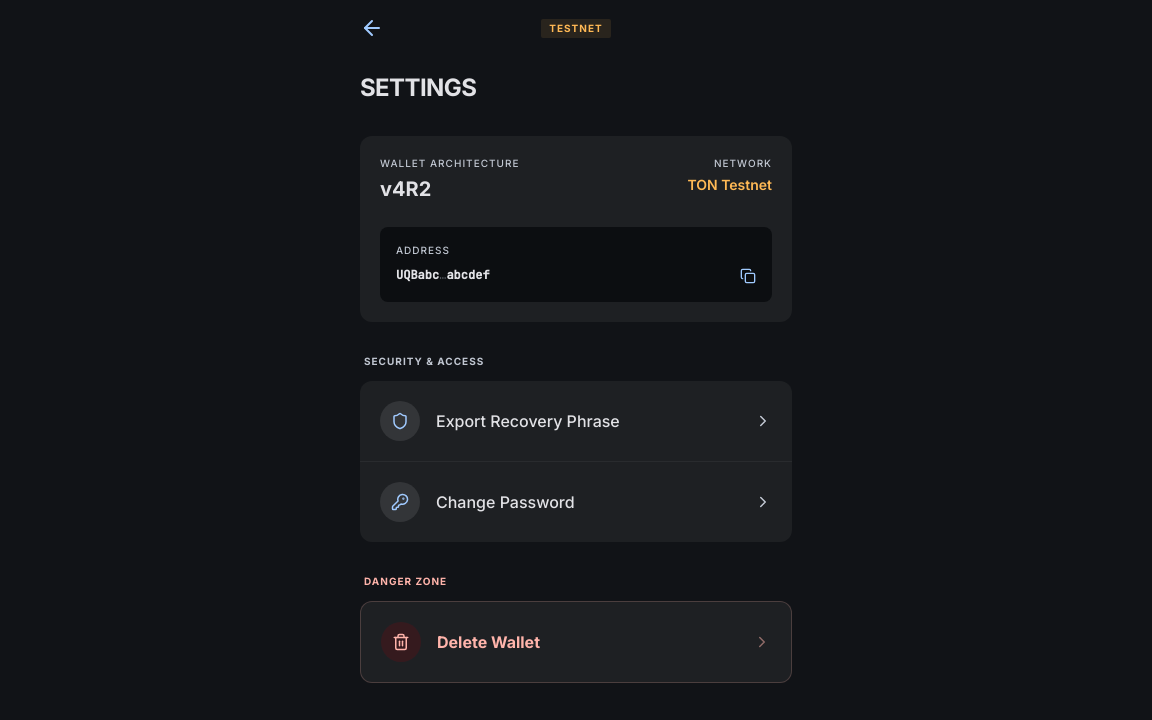
it: SettingsScreen › opens ExportScreen when Export Recovery Phrase clicked
Step 1. Click the button "Export Recovery Phrase" → x=576, y=421, box [360, 380, 792, 462]
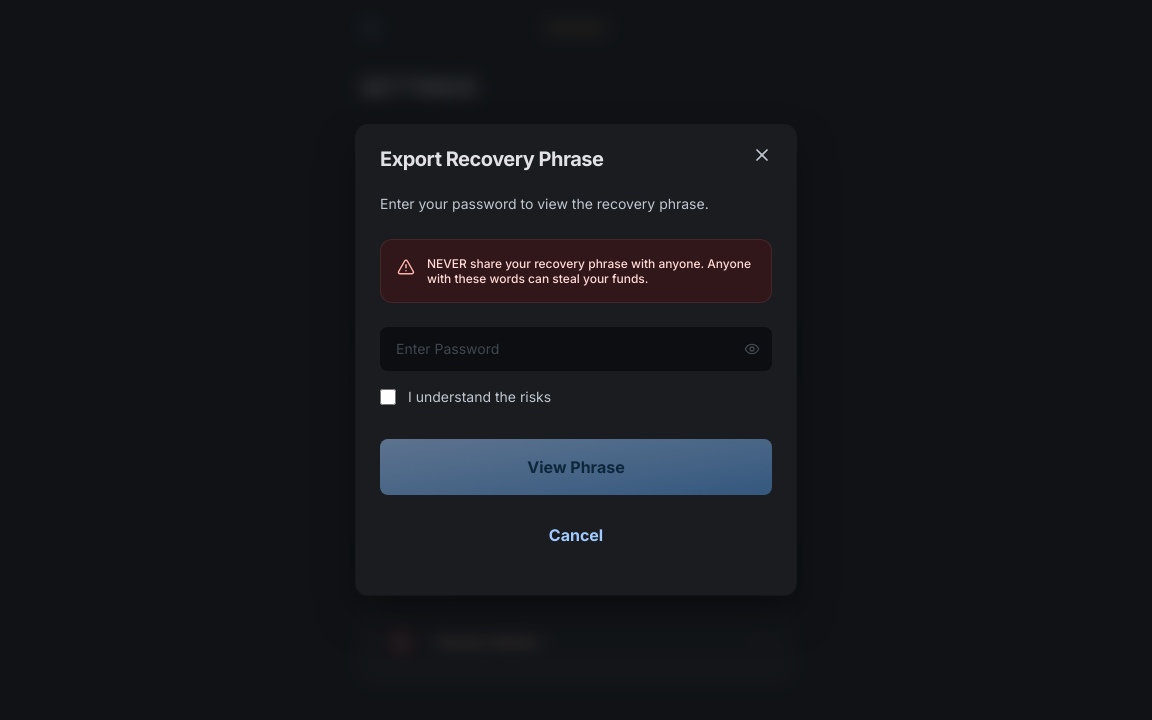
Expected: the heading "Export Recovery Phrase" is shown, [380, 145, 604, 173]
